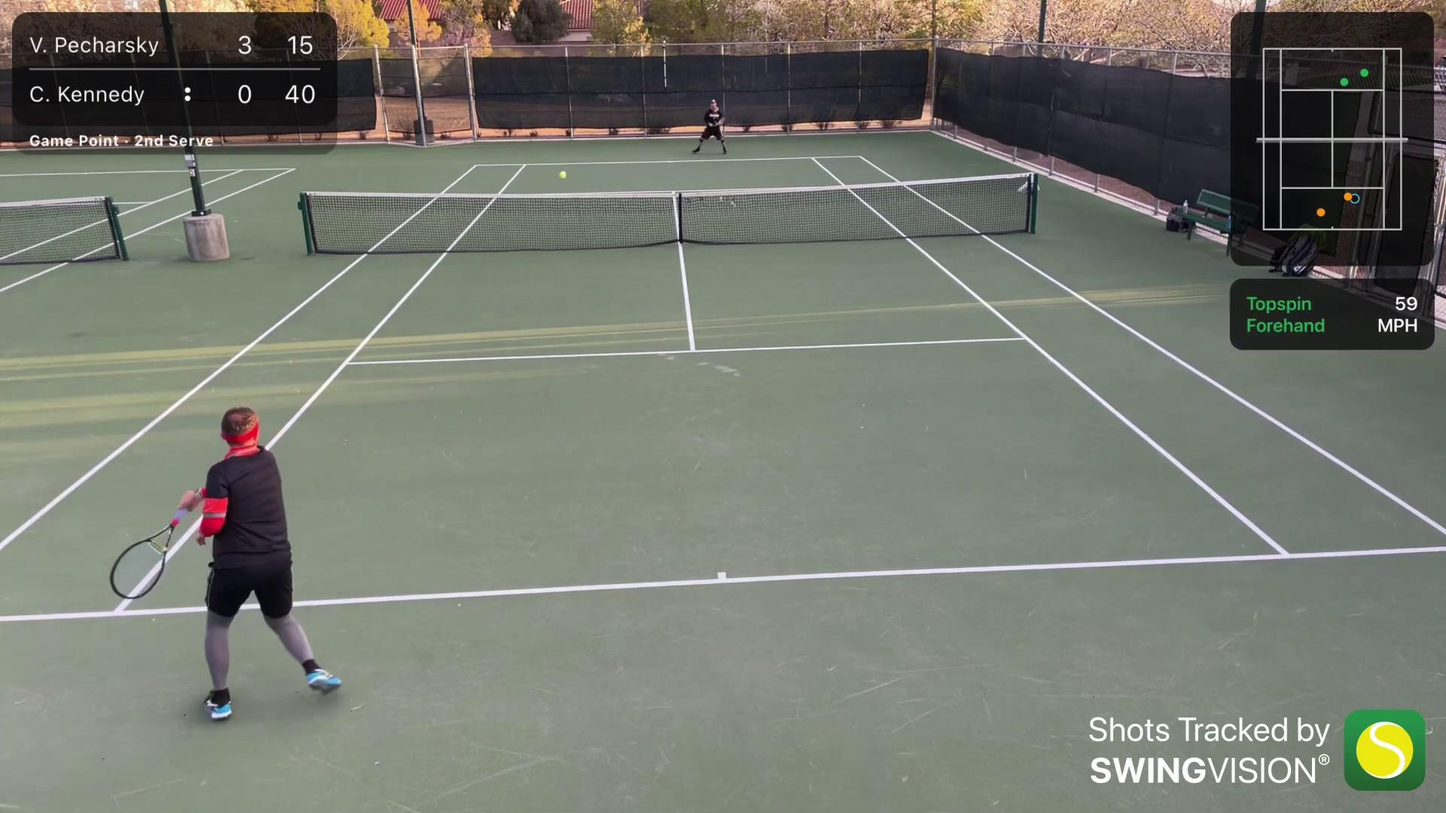ball: (557, 170, 569, 181)
